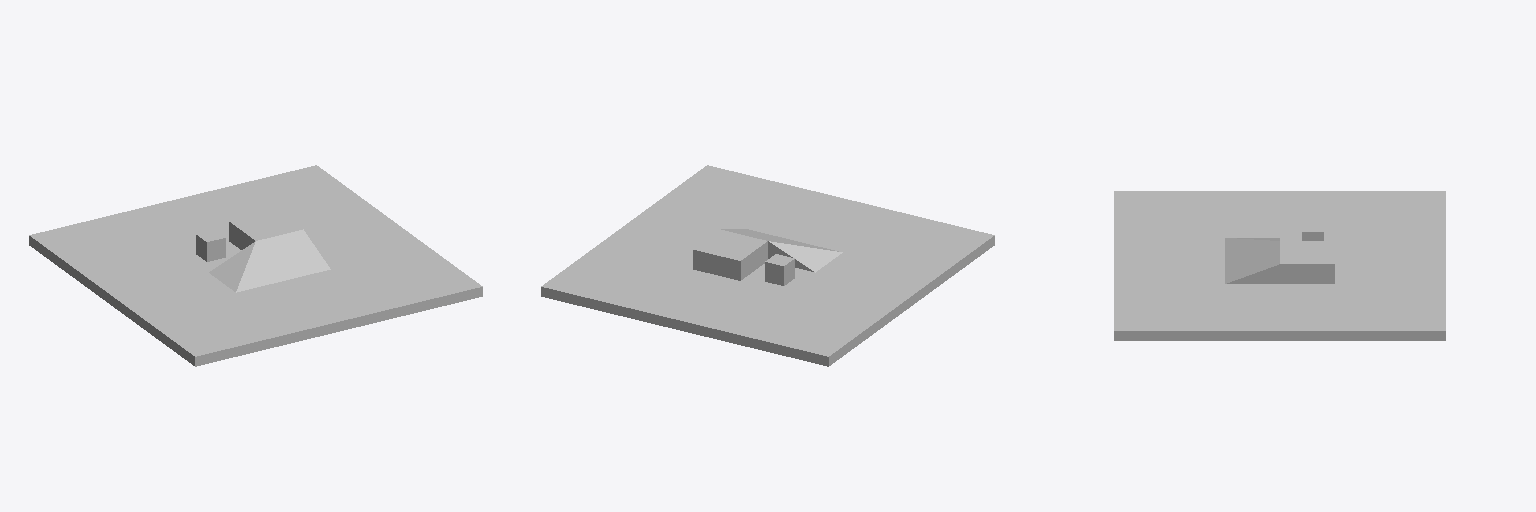
The model's file is platform.obj.
3 renders of one model, left to right at view 1: azimuth 30°, elevation 25°; view 2: azimuth 150°, elevation 25°; view 3: azimuth 270°, elevation 25°, orthographic.
Visible parts, largest first — view 1: Cube, Cube.001; view 2: Cube, Cube.001; view 3: Cube.
Boxes of the visible parts, <box> form: Cube: <box>29,165,482,366</box>; Cube.001: <box>196,230,225,261</box>; Cube: <box>541,165,994,366</box>; Cube.001: <box>765,254,794,285</box>; Cube: <box>1114,191,1445,340</box>.
Bounding box in the file's own units: 30.26 × 3 × 30.26.